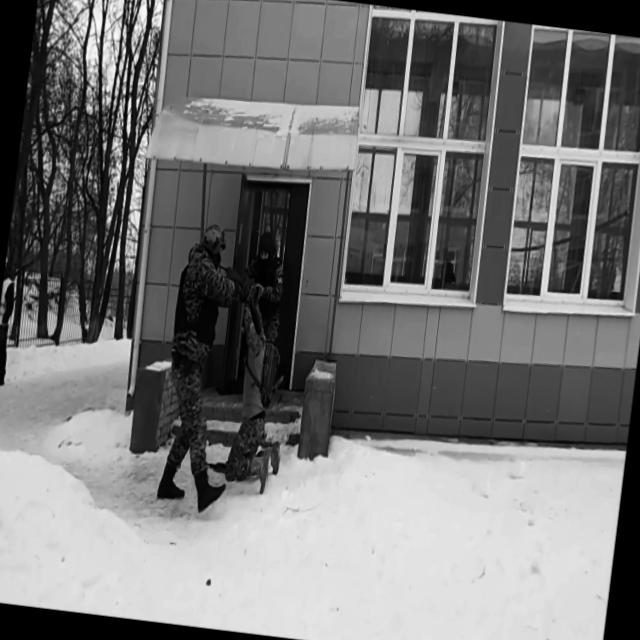gun: (206, 256, 257, 306)
person: (222, 278, 302, 496), (242, 230, 292, 348), (0, 263, 18, 386)
person with a gun: (151, 219, 258, 515)
